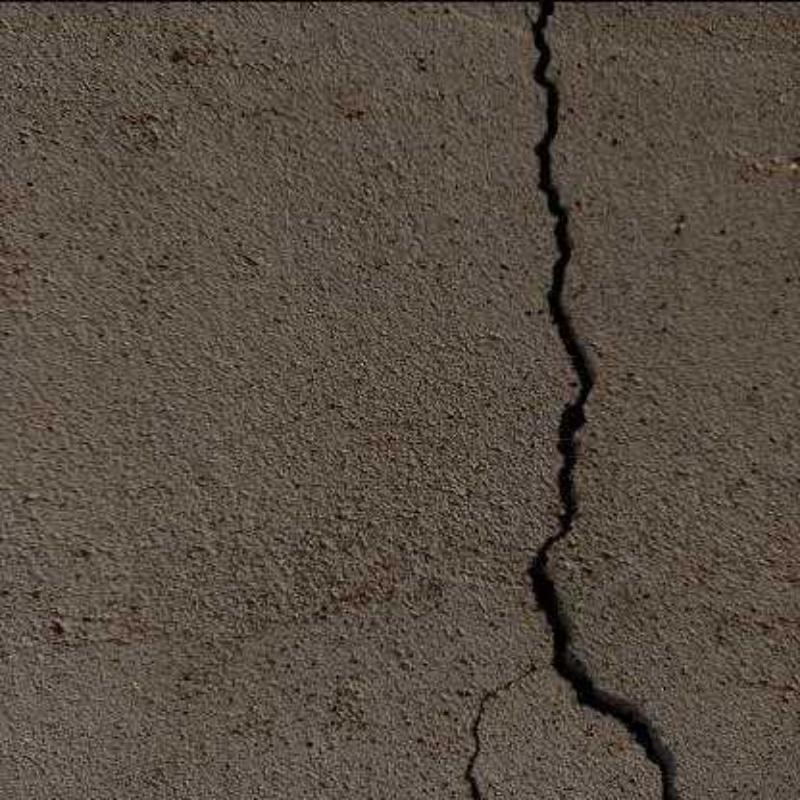crack: (528, 3, 673, 799), (461, 666, 535, 798)
